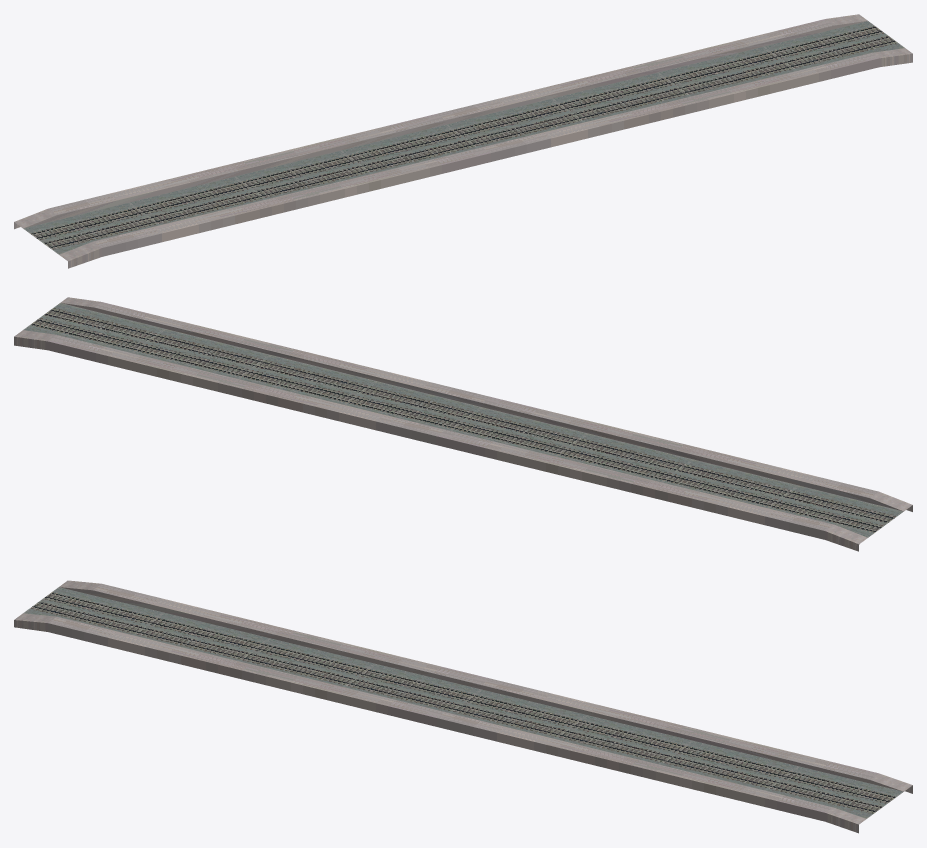
The model's file is lodaswrailroad03.obj.
3 views of the same model, one above another, from view 1: azimuth 30°, elevation 25°; view 2: azimuth 150°, elevation 25°; view 3: azimuth 330°, elevation 25° (orthographic).
Visible parts, largest first — view 1: lodaswrailroad03; view 2: lodaswrailroad03; view 3: lodaswrailroad03.
Part boxes in pixels (x1,y1,x2,y2): lodaswrailroad03: [14, 14, 912, 268]; lodaswrailroad03: [14, 297, 912, 551]; lodaswrailroad03: [14, 580, 912, 833].
Size of the model in its own units: 99.99 by 1.4 by 11.05.
Materials: 2 (2 with a texture image).
